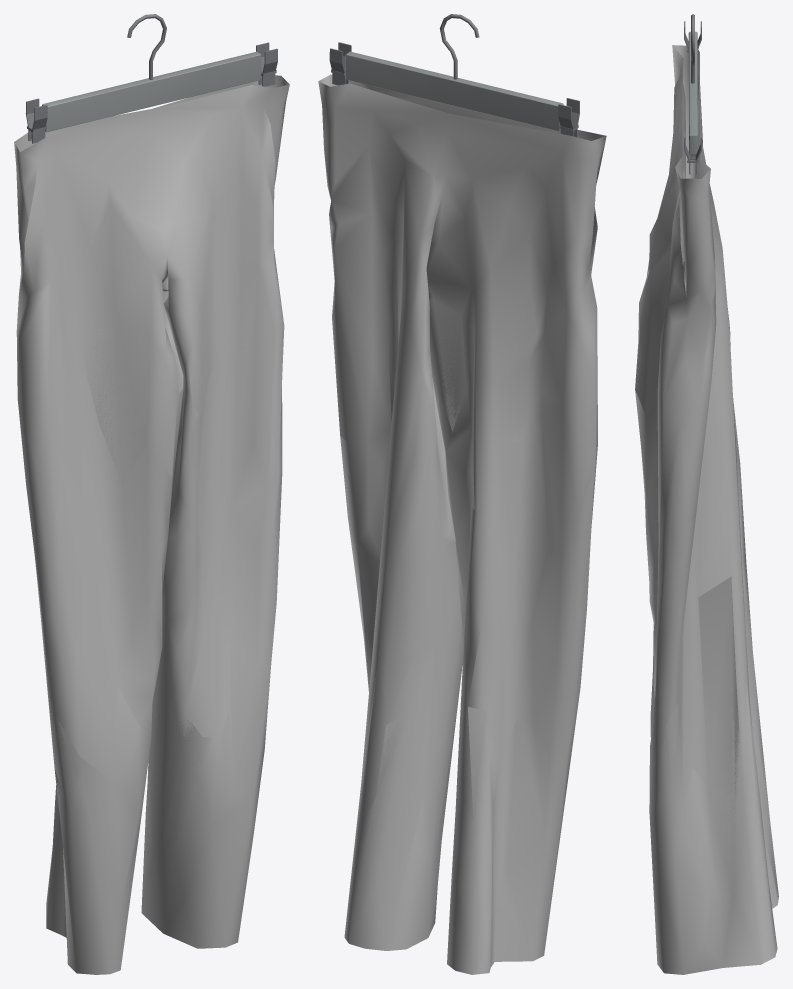
Rendered from dresspants.FBX.
3 views of the same model, side by side, from view 1: azimuth 30°, elevation 25°; view 2: azimuth 150°, elevation 25°; view 3: azimuth 270°, elevation 25° (orthographic).
Parts seen in each view (by area): view 1: dresspants_LOD0, _Hanger-2_LOD0; view 2: dresspants_LOD0, _Hanger-2_LOD0; view 3: dresspants_LOD0, _Hanger-2_LOD0.
Part boxes in pixels (bbox=[...]): dresspants_LOD0: bbox=[14, 75, 289, 974]; _Hanger-2_LOD0: bbox=[25, 14, 277, 143]; dresspants_LOD0: bbox=[318, 74, 606, 974]; _Hanger-2_LOD0: bbox=[329, 14, 579, 137]; dresspants_LOD0: bbox=[635, 45, 778, 974]; _Hanger-2_LOD0: bbox=[684, 14, 701, 174].
Size of what is drawn, in the model's own units: 36.09 by 16.57 by 117.
